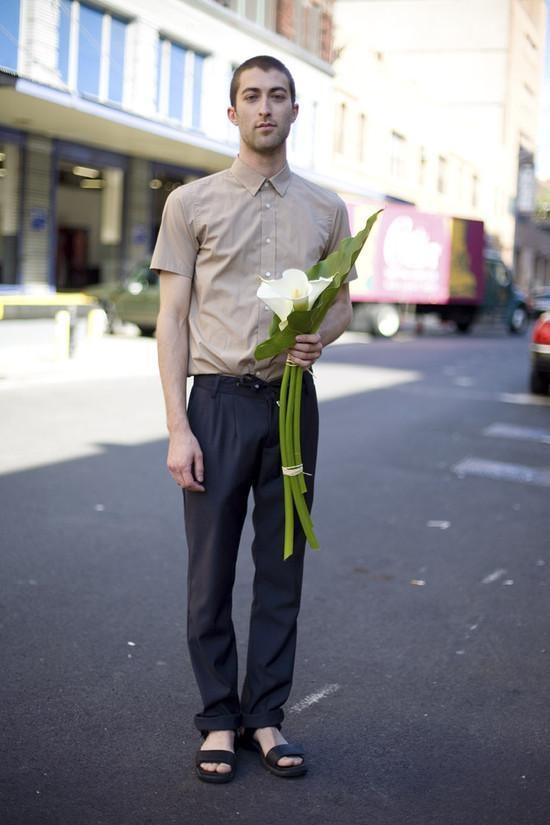pants: (184, 364, 319, 739)
shirt: (147, 154, 357, 376)
